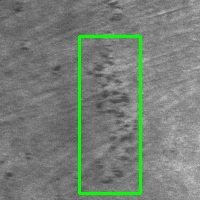rolled-in_scale: (79, 36, 140, 193)
